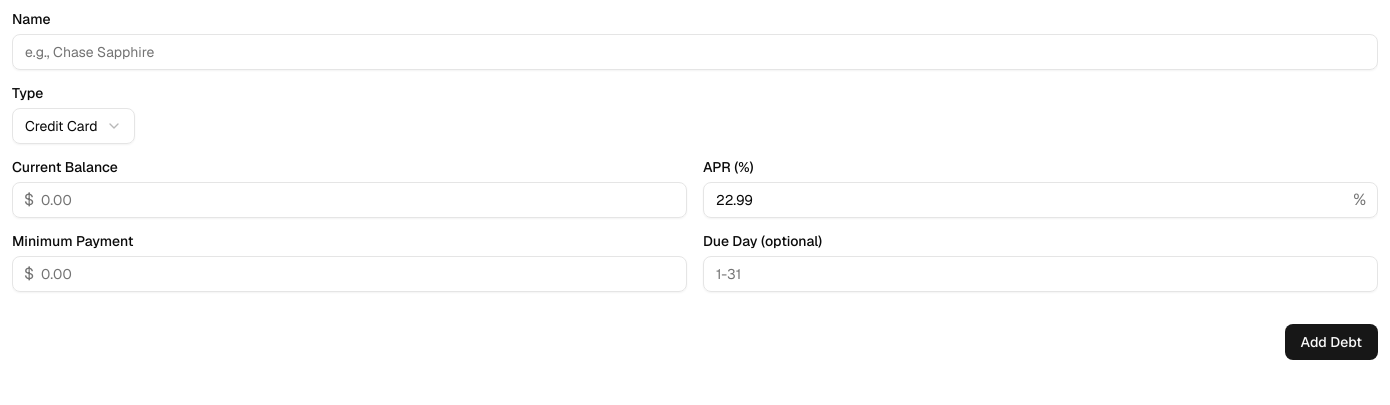
DebtForm › validation › should show error for missing balance
Step 1. Type "Test Card" into the field with placeholder "e.g., Chase Sapphire" → (695, 52), box [12, 34, 1378, 70]
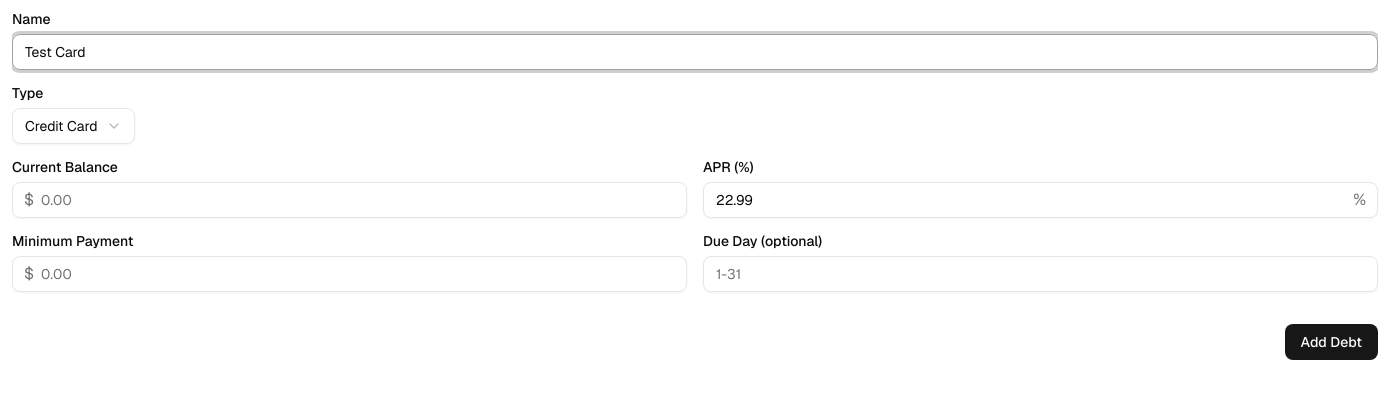
Note: Leave balance empty (don't fill it in)
Step 2. Click the button "Add Debt" → (1331, 342), box [1285, 324, 1378, 360]
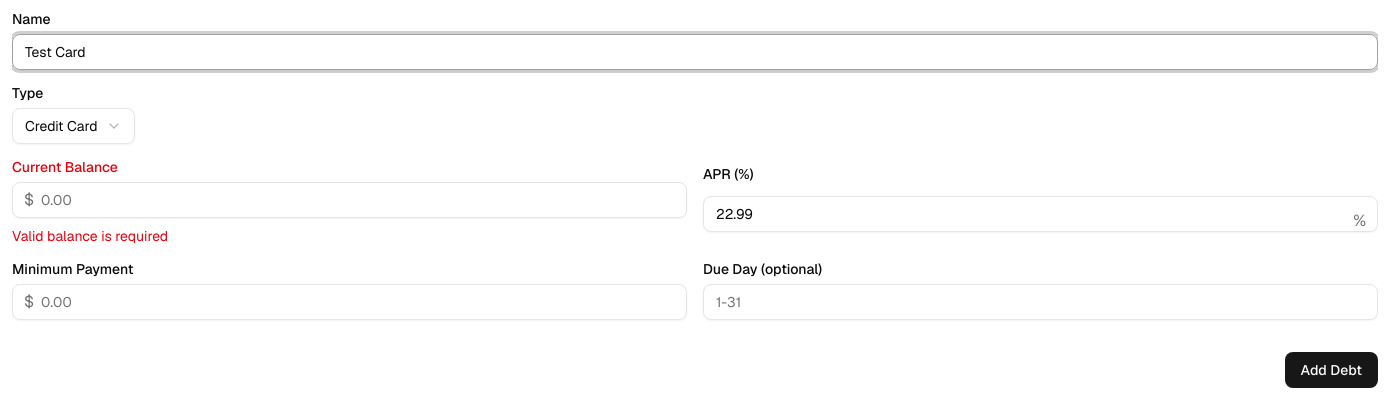
Now the text "Valid balance is required" is shown, box [12, 227, 168, 245]
